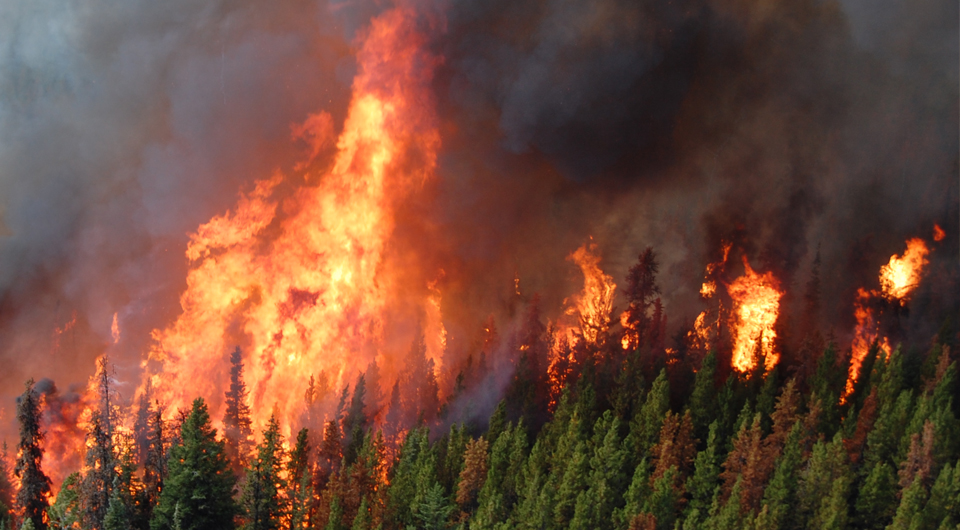fire: (49, 36, 469, 484), (563, 221, 960, 405)
